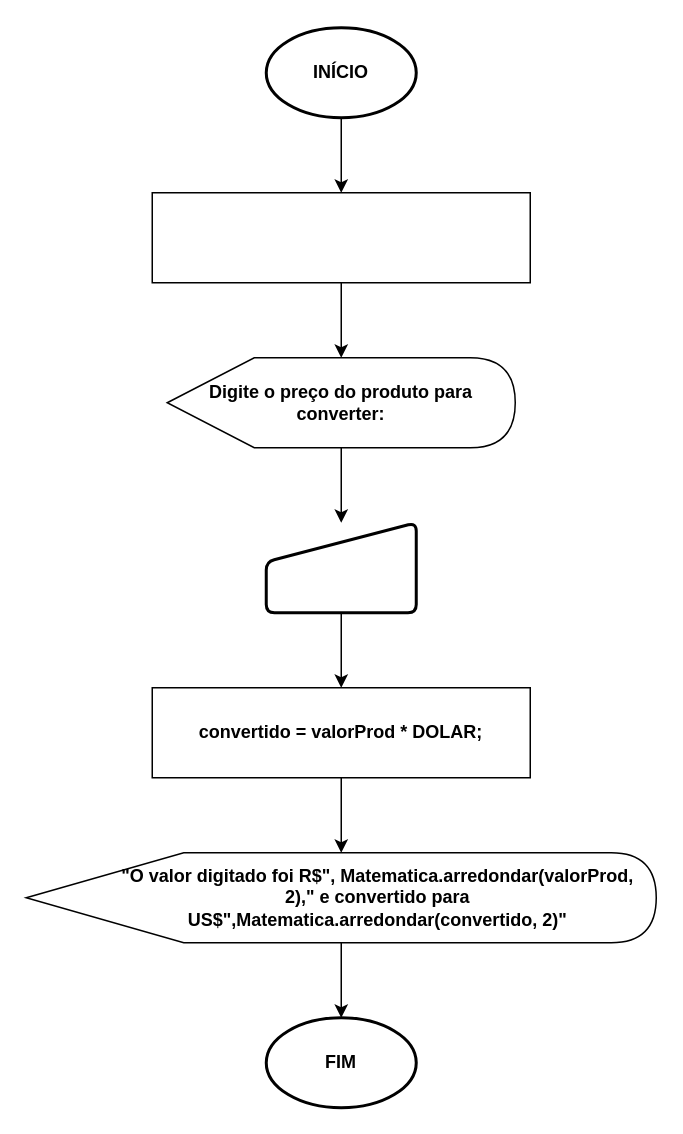
This 683x1134 diagram has some shape labels left out. Here are the shapes that lost their labels. From the top down, the centre of each, then its label:
At (340,237): "DOLAR=5.00; valorProd;convertido;".
At (340,567): "valorProd".
